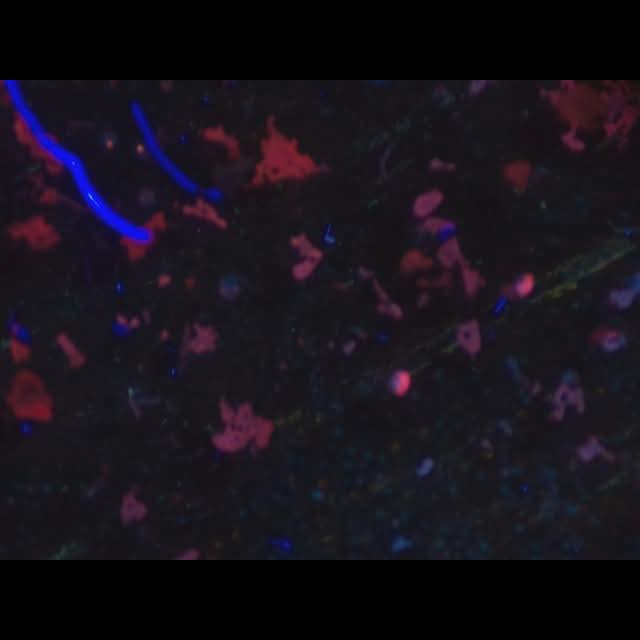Fragment: (212, 396, 276, 454), (288, 231, 324, 283)
